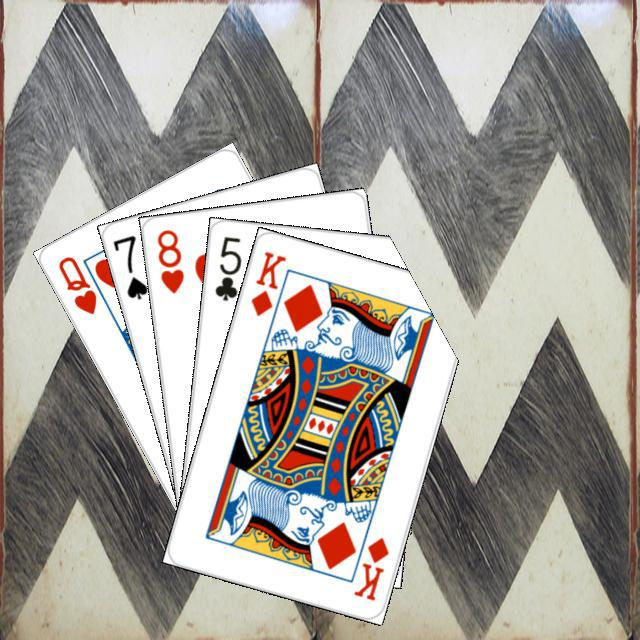5c: (210, 231, 243, 303)
7s: (108, 230, 150, 302)
8h: (152, 224, 186, 295)
Kd: (246, 246, 288, 318), (349, 532, 391, 603)
Qh: (53, 251, 99, 316)
